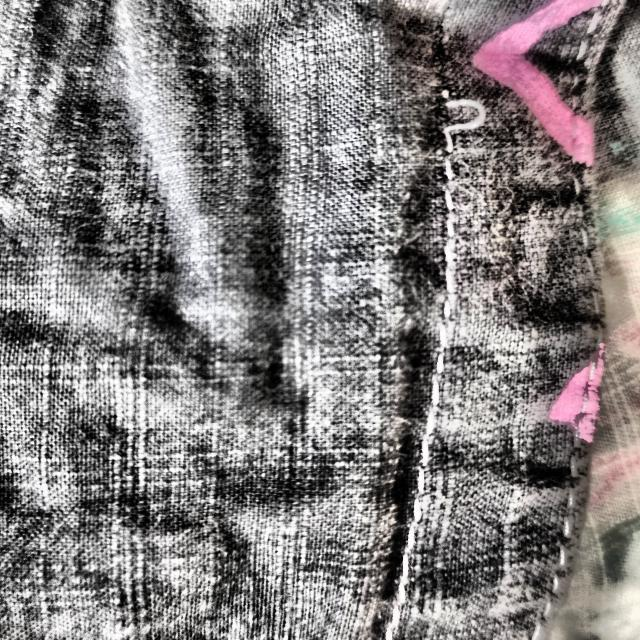gray stitch: (423, 64, 500, 171)
